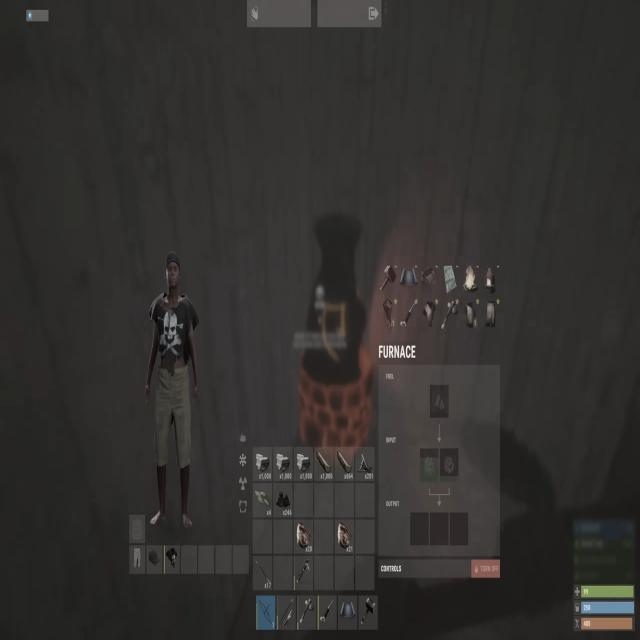Player: (143, 249, 201, 535)
